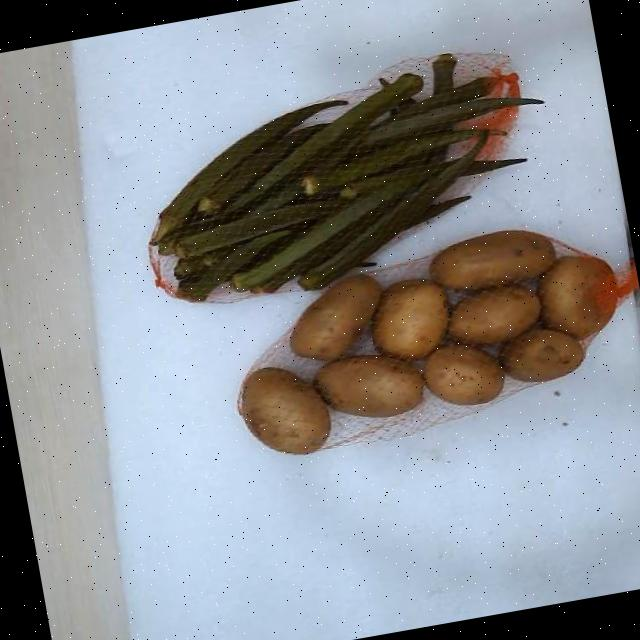potato: (151, 53, 541, 300), (289, 273, 381, 361), (239, 367, 330, 451), (429, 229, 552, 288), (313, 353, 423, 416), (537, 256, 616, 339), (372, 278, 449, 359), (448, 284, 539, 343), (422, 343, 501, 404), (498, 327, 583, 381)
